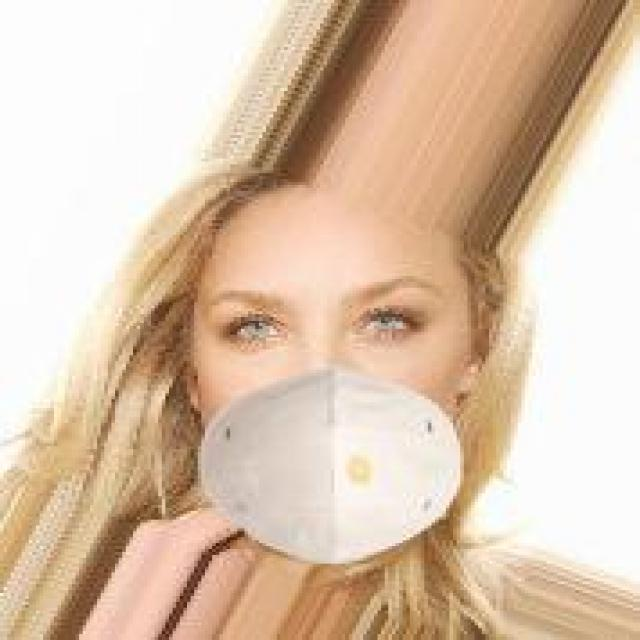mask: (155, 164, 561, 576)
